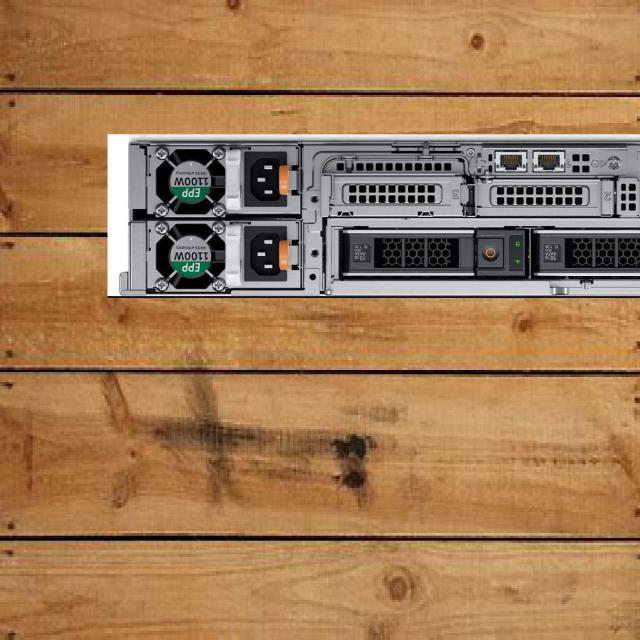Server: (106, 134, 640, 298)
